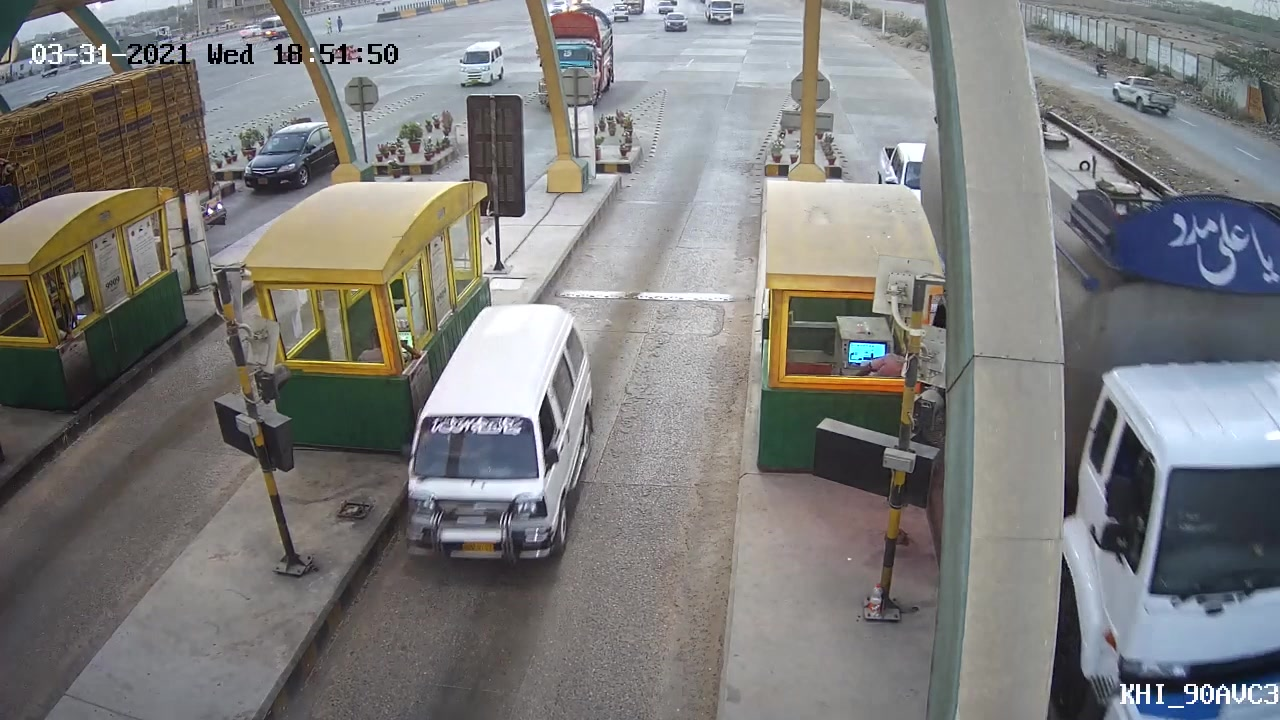F1: (393, 300, 600, 579)
